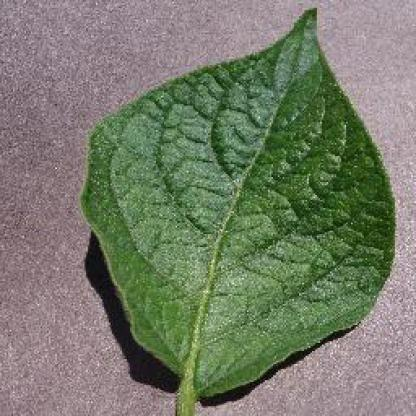good leaf: (77, 8, 408, 401)
